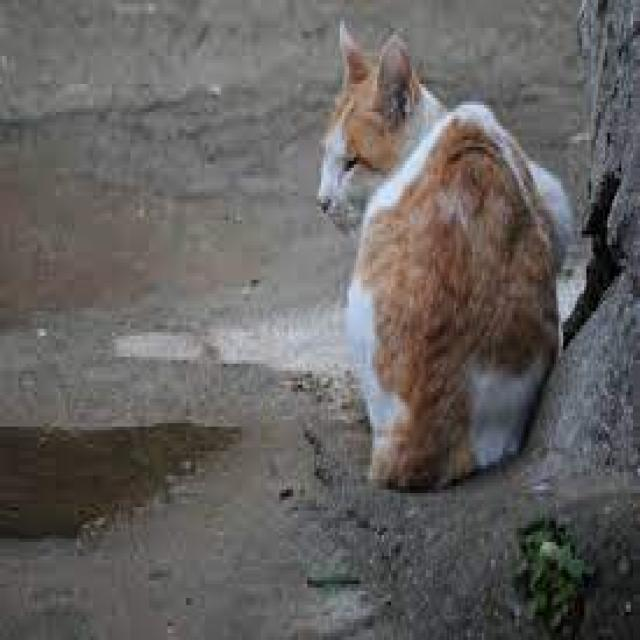cat: (273, 0, 621, 547)
